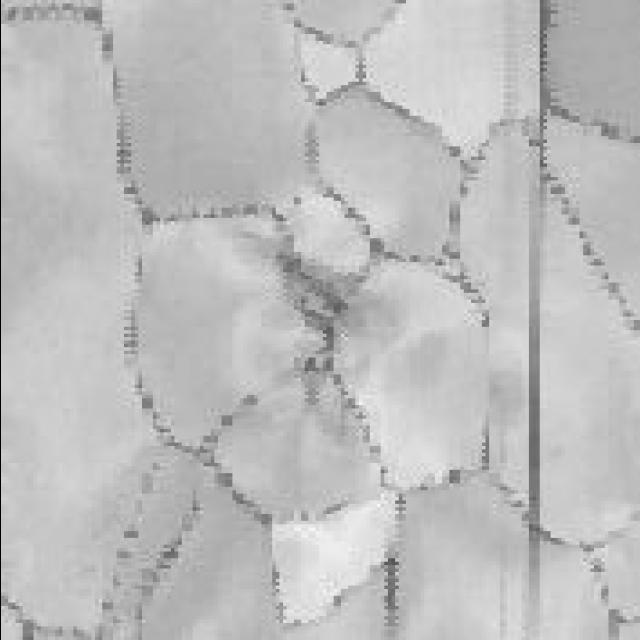good_void: (273, 237, 359, 343)
